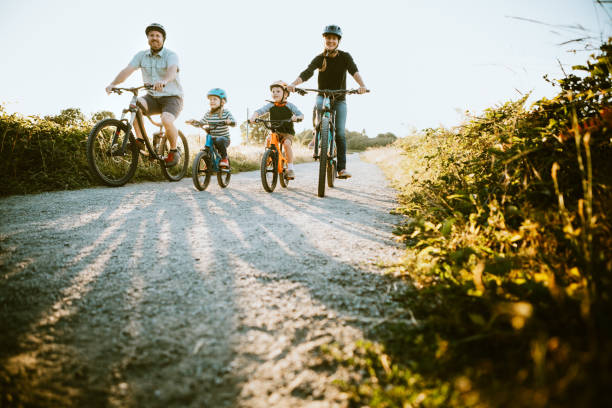without mask: (199, 85, 232, 115), (263, 76, 296, 106), (315, 23, 348, 53), (139, 22, 172, 52)
